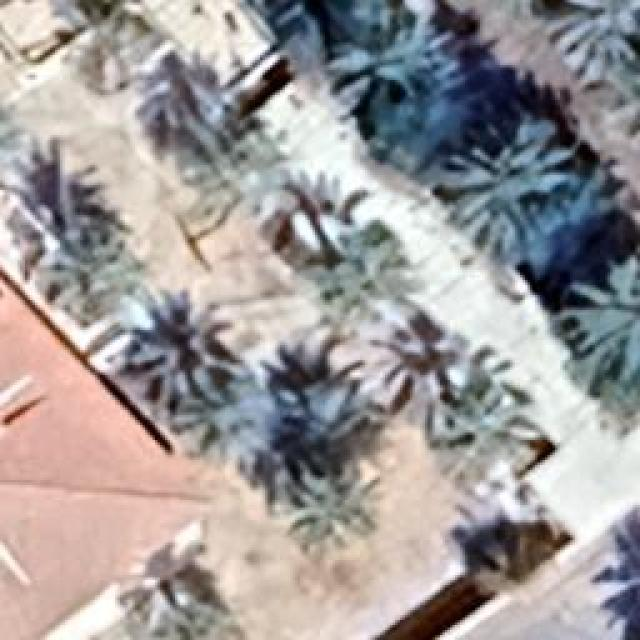PalmTree: (128, 95, 235, 415), (105, 98, 168, 593), (440, 112, 590, 278), (325, 0, 465, 110), (20, 0, 170, 92), (128, 290, 238, 410), (30, 212, 140, 316), (301, 212, 404, 322), (274, 464, 388, 558), (428, 395, 540, 490), (560, 258, 638, 380), (186, 128, 286, 218), (386, 313, 478, 409), (544, 0, 638, 88), (582, 504, 638, 638), (0, 86, 27, 196), (615, 38, 640, 152)
